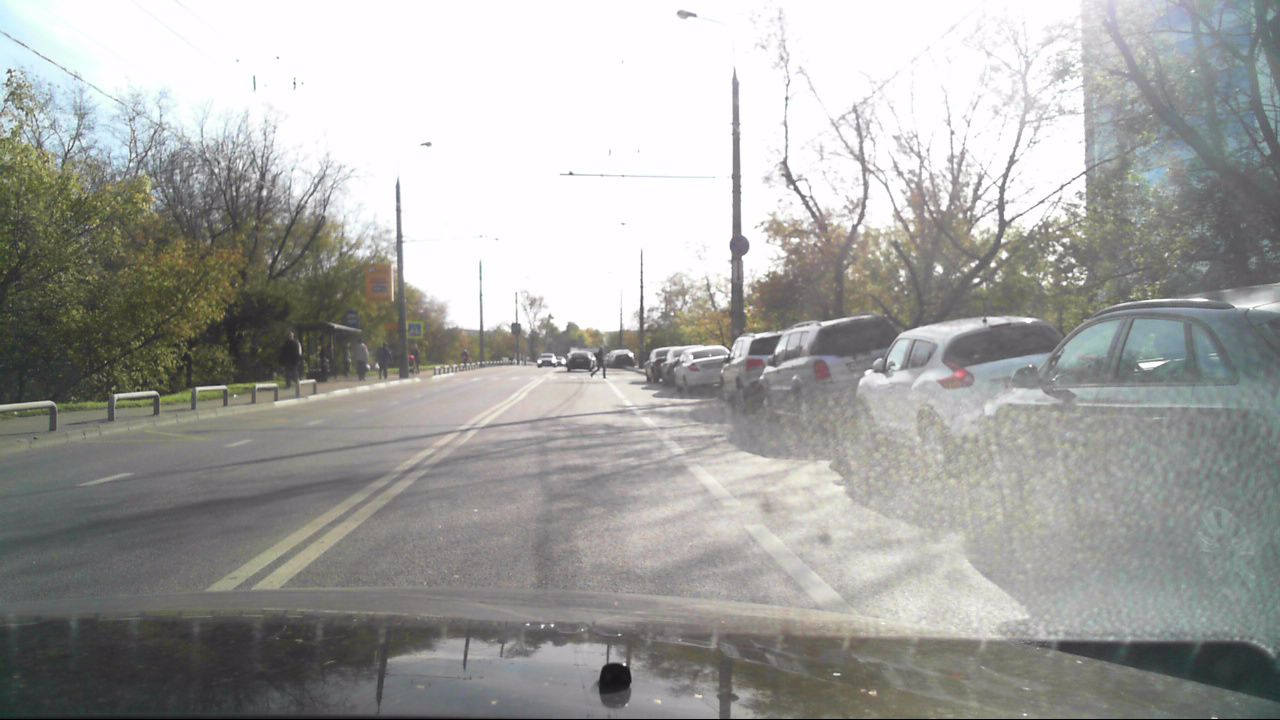No Parking: (728, 234, 750, 255)
